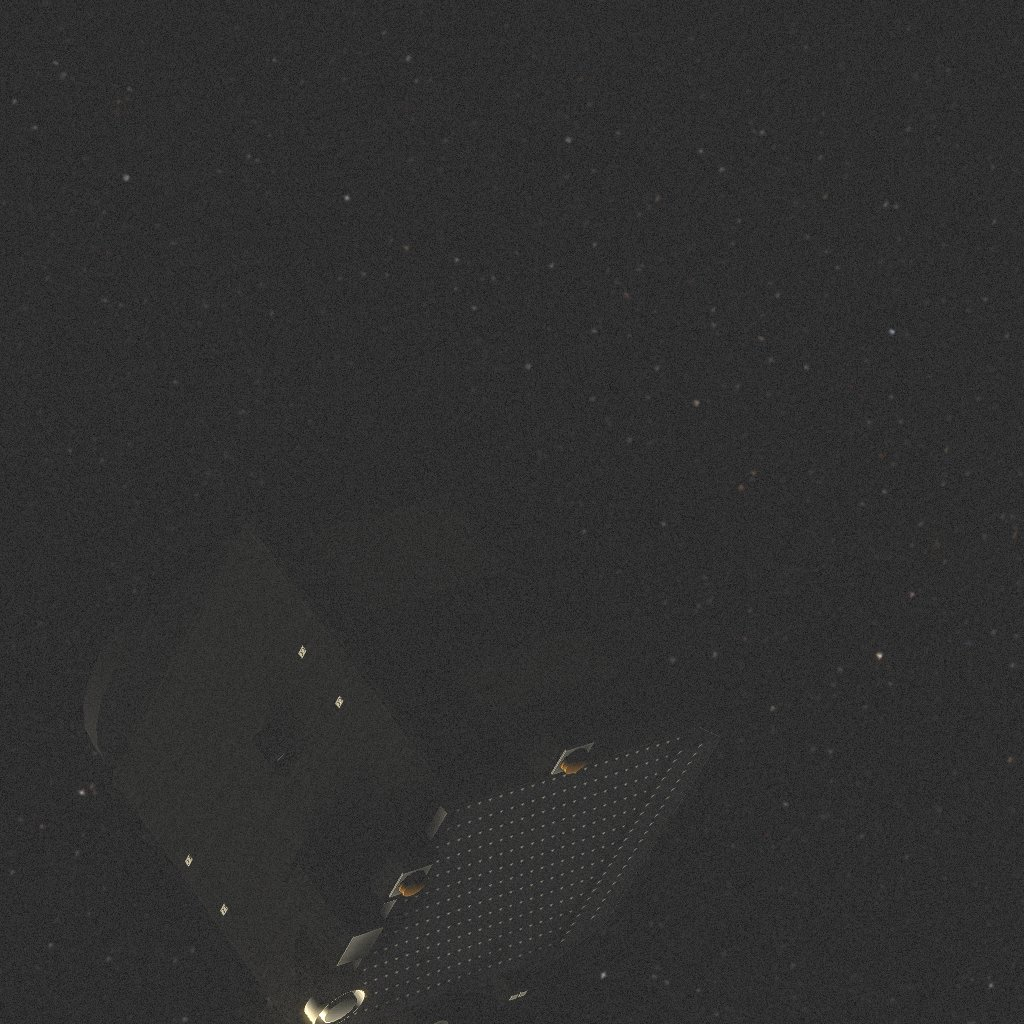proba_3_ocs: (84, 389, 721, 1024)
